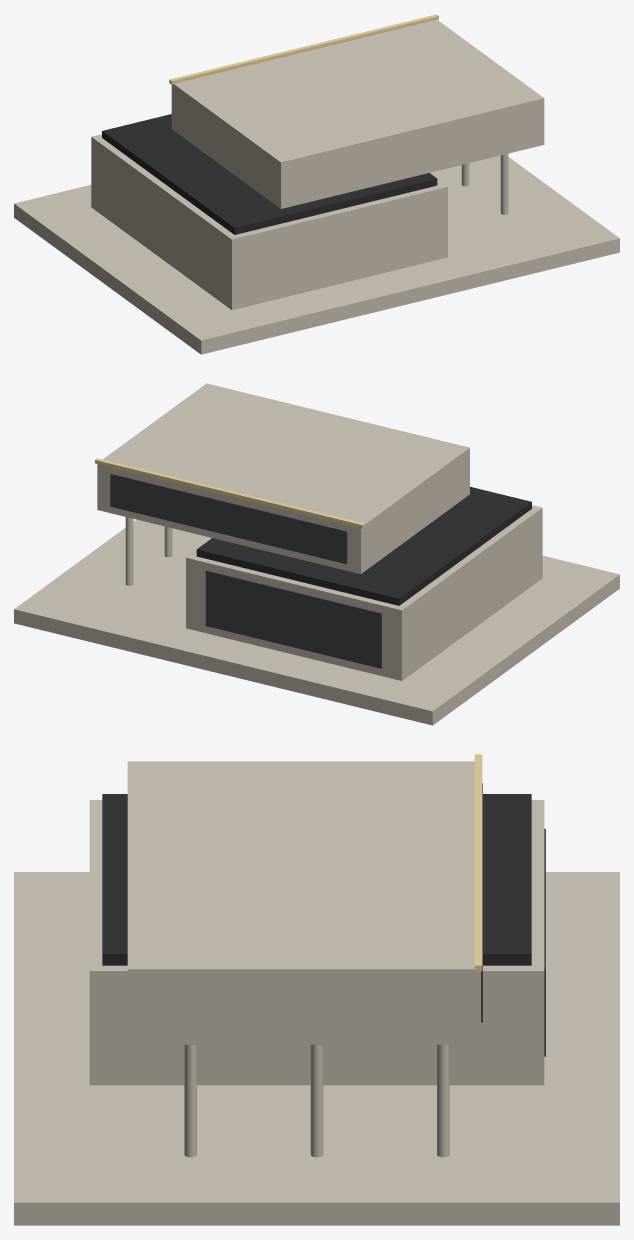
The model's file is villa.glb.
3 views of the same model, one above another, from view 1: azimuth 30°, elevation 25°; view 2: azimuth 150°, elevation 25°; view 3: azimuth 270°, elevation 25° (orthographic). The views are drawn at different scales.
Parts seen in each view (by area): view 1: Upper, Plinth, Ground, Reveal, BrassFascia, Column_0; view 2: Plinth, Upper, Ground, Reveal, GlassLower, GlassUpper, BrassFascia, Column_2; view 3: Plinth, Upper, Ground, Reveal, BrassFascia, Column_1, Column_0, Column_2.
Boxes of the visible parts, <box> form: Upper: <box>171,19,544,208</box>; Plinth: <box>14,155,619,354</box>; Ground: <box>91,134,447,309</box>; Reveal: <box>102,114,437,234</box>; BrassFascia: <box>169,14,438,84</box>; Column_0: <box>500,153,508,214</box>; Plinth: <box>14,519,619,725</box>; Upper: <box>97,383,469,574</box>; Ground: <box>186,505,542,680</box>; Reveal: <box>196,487,531,605</box>; GlassLower: <box>205,570,381,668</box>; GlassUpper: <box>110,474,347,564</box>; BrassFascia: <box>95,458,364,528</box>; Column_2: <box>125,517,133,585</box>; Plinth: <box>14,872,619,1225</box>; Upper: <box>127,761,480,1044</box>; Ground: <box>89,800,544,1085</box>; Reveal: <box>102,794,531,965</box>; BrassFascia: <box>474,754,482,971</box>; Column_1: <box>310,1044,323,1157</box>; Column_0: <box>184,1044,196,1157</box>; Column_2: <box>437,1044,449,1157</box>.
Bounding box in the file's own units: 6.2 × 2 × 4.8.
